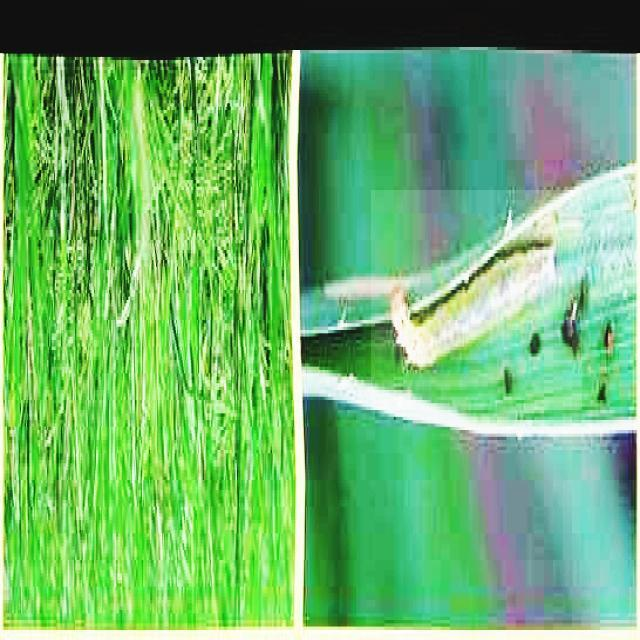leaf-folder: (371, 190, 582, 410)
